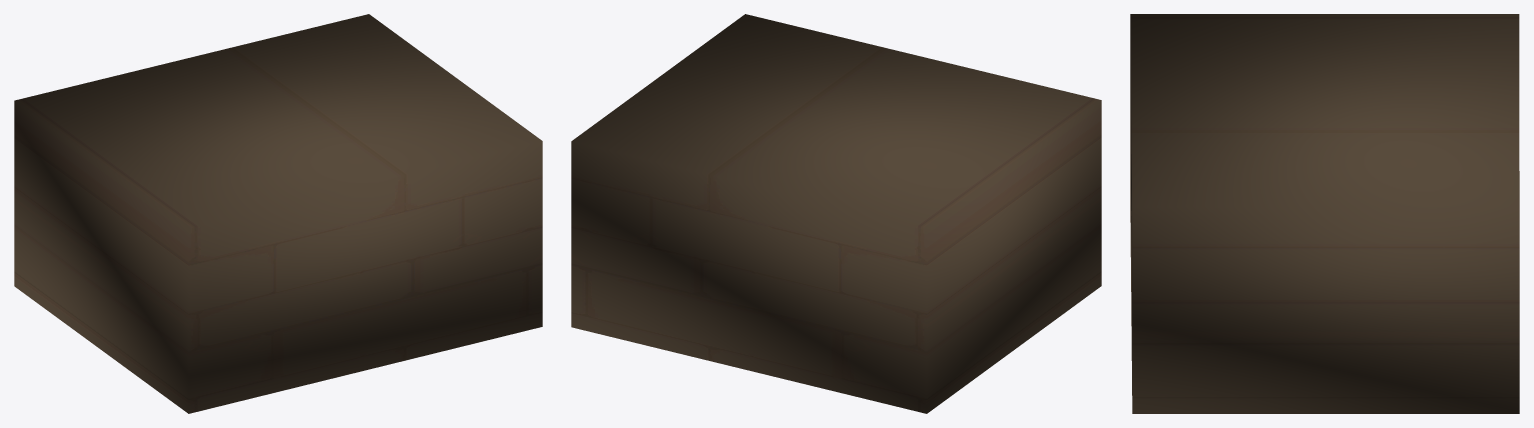
Rendered from IndoorScene_Xm_Czj.fbx.
The picture shows the model from 3 angles, left to right: view 1: azimuth 30°, elevation 25°; view 2: azimuth 150°, elevation 25°; view 3: azimuth 270°, elevation 25°; orthographic projection. The views are drawn at different scales.
Parts seen in each view (by area): view 1: Indoor_Xm_Build_Czj_Filling_Vo; view 2: Indoor_Xm_Build_Czj_Filling_Vo; view 3: Indoor_Xm_Build_Czj_Filling_Vo.
Part boxes in pixels (left/top/right/bottom): Indoor_Xm_Build_Czj_Filling_Vo: left=14, top=14, right=542, bottom=413; Indoor_Xm_Build_Czj_Filling_Vo: left=571, top=14, right=1101, bottom=413; Indoor_Xm_Build_Czj_Filling_Vo: left=1130, top=14, right=1519, bottom=413.
Size of what is drawn, in the model's own units: 22.42 by 11.21 by 19.09.
